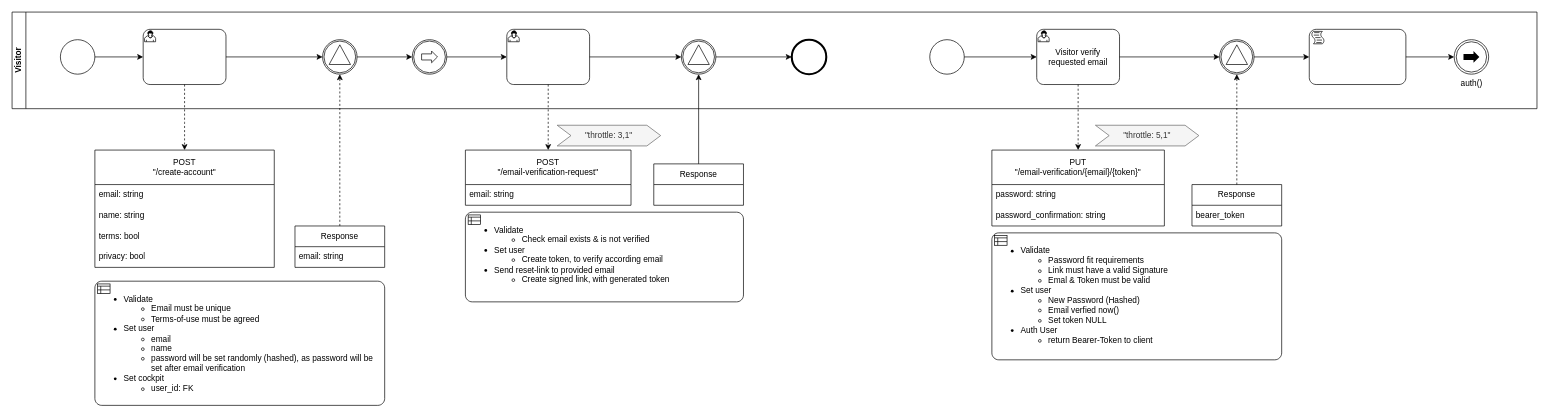
Image size: 1549x417. Some labels were removed from this diagram. The shapes that lost their labels are listed below. From the top down, each one's centre as x and y in pixels, then its label:
pixel 77 56: "/create-account"
pixel 184 57: Visitor creates new account
pixel 429 56: redirect "/email-verification-request/{email}"
pixel 548 57: Visitor request email verification
pixel 808 56: redirect "/landingpage"
pixel 946 56: "/email-verification/{email}/{key}"
pixel 1357 57: Set Bearer in Local Storage (Client) & Set User Session Headers
